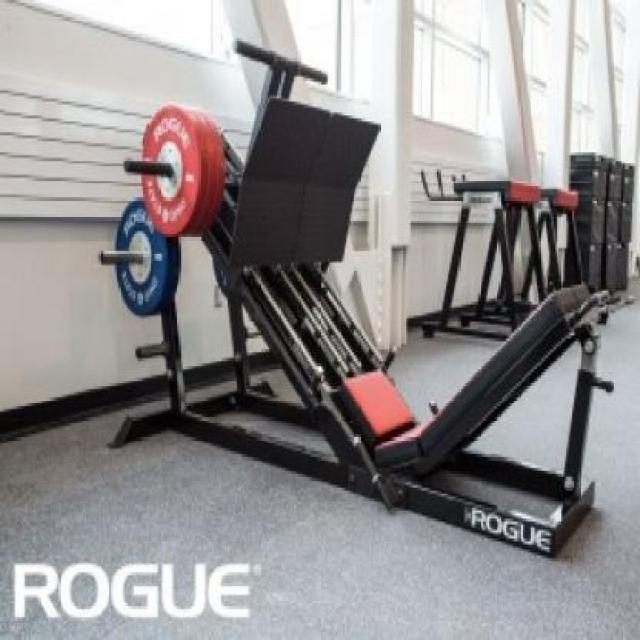leg press: (95, 20, 623, 574)
